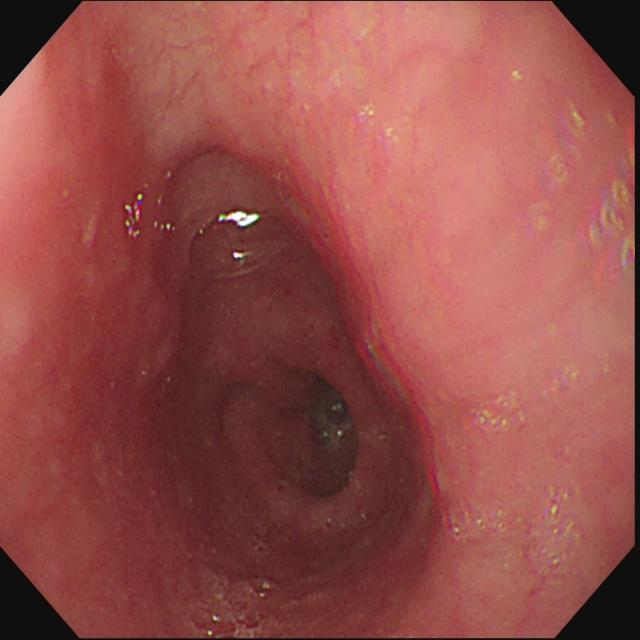E: (231, 358, 370, 510)
T: (188, 206, 295, 278), (187, 575, 276, 638)
